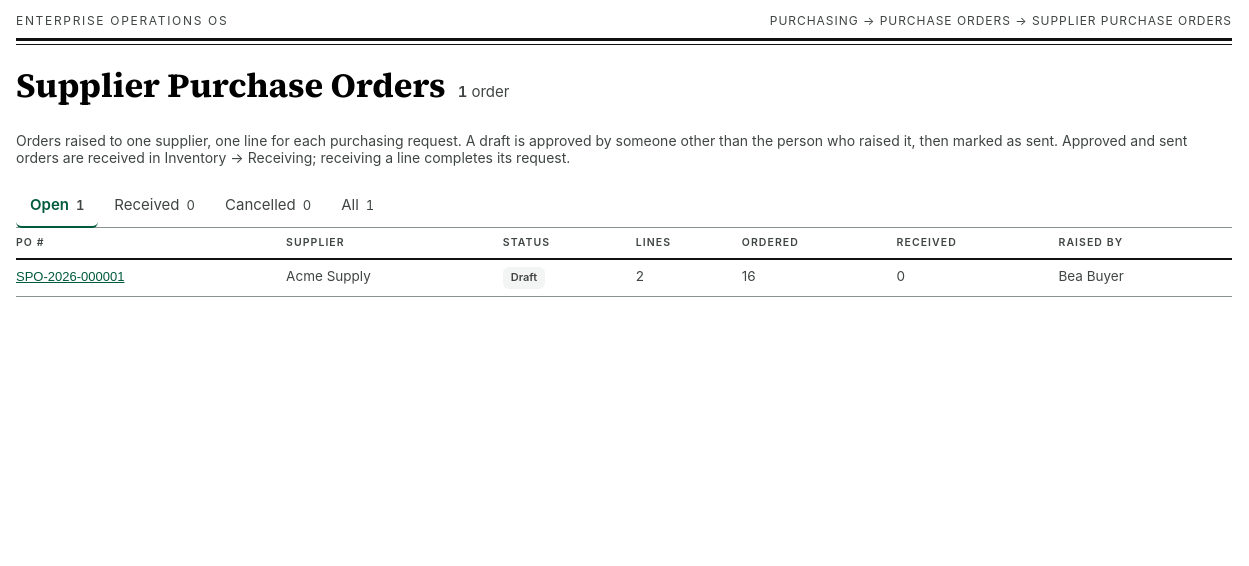
Test: controls are offered only to capability holders, narrowed by the server's own flags › the creator holding .approve is NOT offered Approve when the server says allowed.approve is false, and is told why
This screenshot has width=1249, height=566.
Click the button "SPO-2026-000001" at x=70, y=277, box [16,269,124,284]
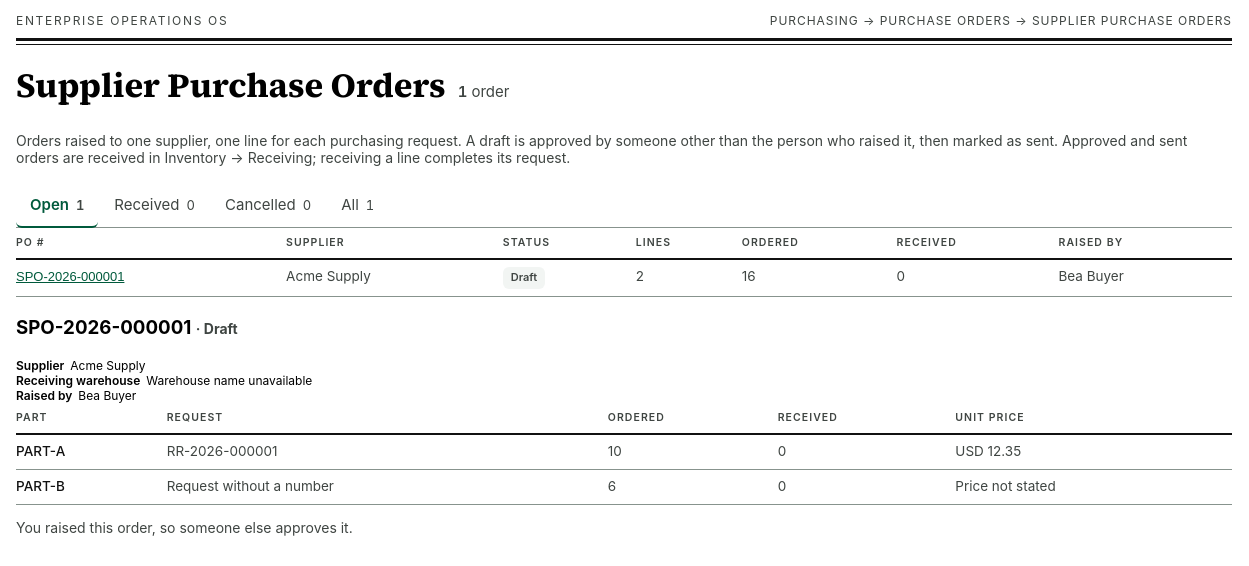
expect the element named "Order SPO-2026-000001" is shown: met, box [16,297,1232,550]
expect the text "You raised this order, so someone else approves it." is shown: met, box [16,519,353,536]
